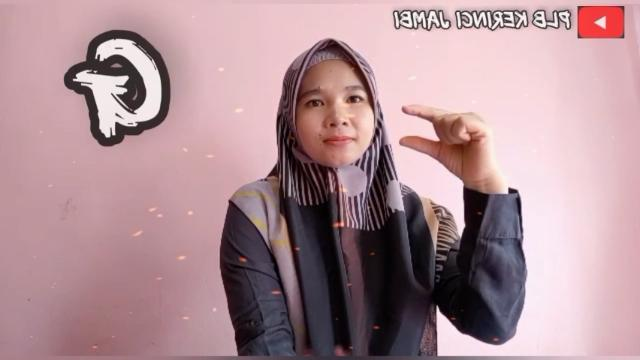G: (399, 102, 499, 176)
